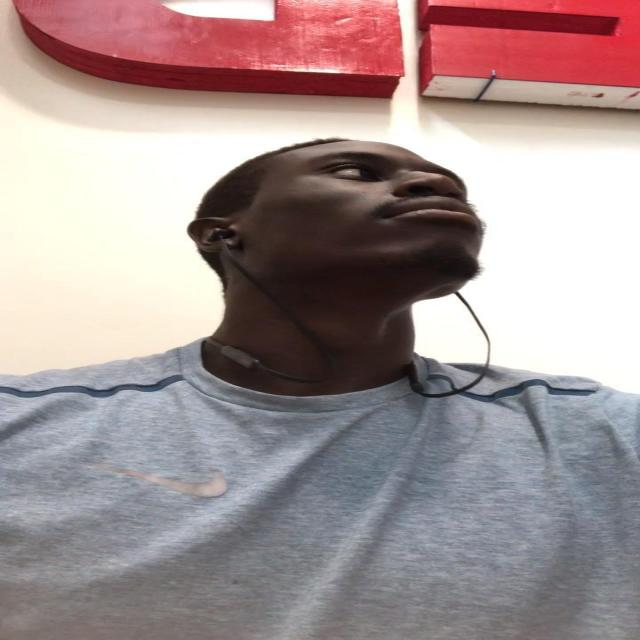face: (214, 141, 486, 293)
